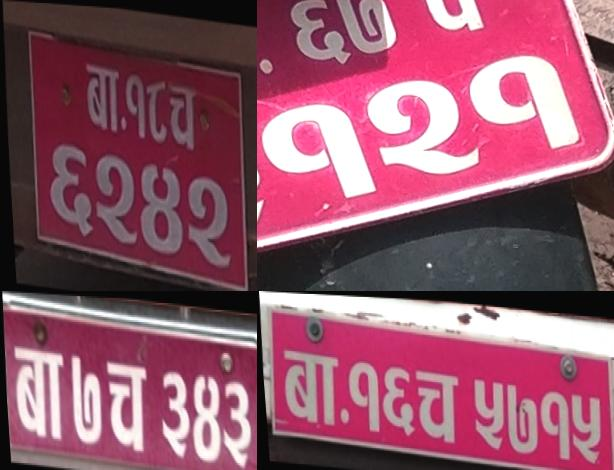0: (82, 59, 120, 132)
1: (357, 72, 474, 169), (89, 150, 138, 246), (181, 170, 230, 266), (342, 353, 383, 437), (534, 376, 573, 462)
3: (460, 47, 582, 144), (257, 96, 372, 198), (152, 362, 193, 462), (217, 368, 255, 470), (122, 69, 146, 136)
4: (44, 140, 93, 237), (281, 0, 347, 64), (186, 367, 224, 465)
5: (135, 159, 182, 256), (567, 381, 607, 469), (466, 370, 508, 449)
6: (376, 358, 418, 440)
7: (65, 347, 106, 451), (325, 0, 399, 53), (501, 373, 541, 455)
8: (403, 0, 493, 30)
9: (166, 79, 196, 146)
ba: (6, 339, 69, 446), (277, 342, 343, 433)
cha: (101, 355, 152, 458), (409, 362, 464, 448)
pa: (143, 76, 169, 141)
